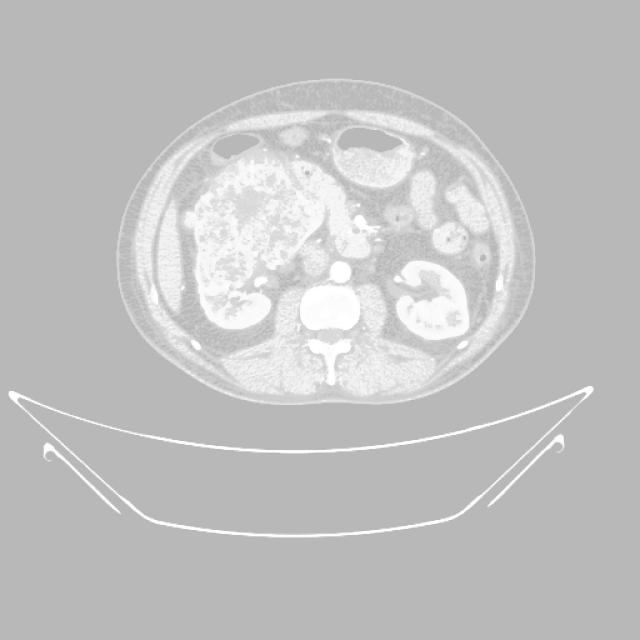TUMOR: (182, 152, 481, 364)
